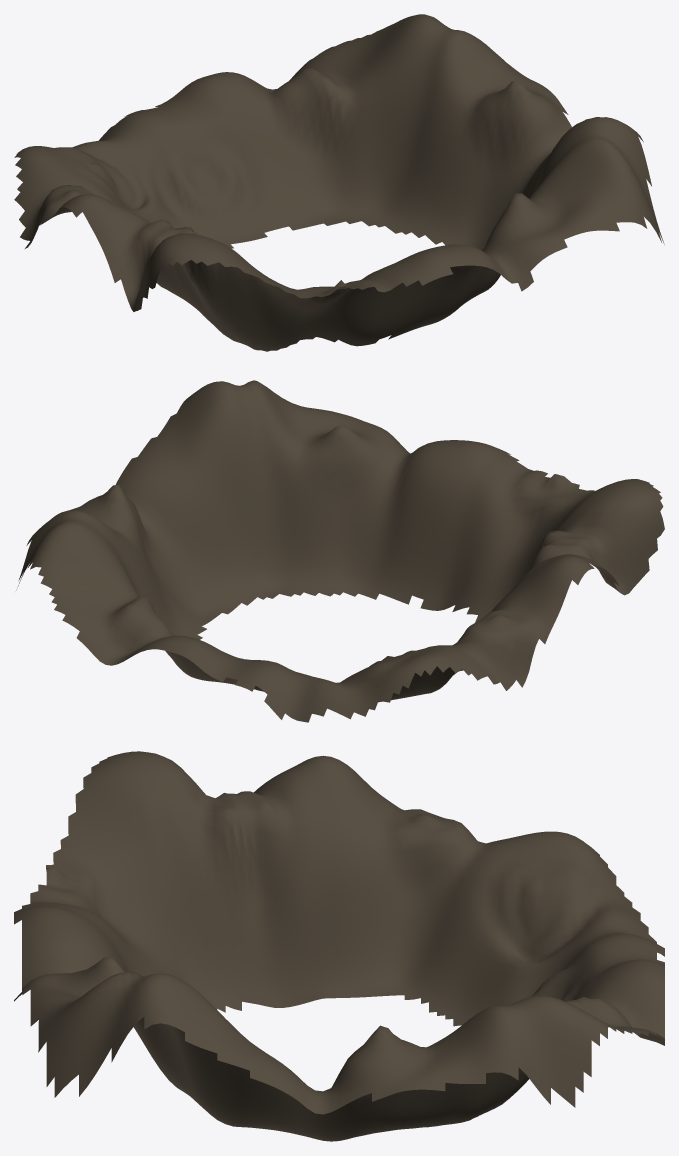
The model's file is cuvetteBrightMode.glb.
3 views of the same model, one above another, from view 1: azimuth 30°, elevation 25°; view 2: azimuth 150°, elevation 25°; view 3: azimuth 270°, elevation 25° (orthographic). The views are drawn at different scales.
Parts seen in each view (by area): view 1: Plane; view 2: Plane; view 3: Plane.
Boxes of the visible parts, x1,y1,x2,y2 form: Plane: (14, 14, 664, 351); Plane: (16, 380, 664, 722); Plane: (14, 751, 664, 1141).
Size of the model in its own units: 173 by 58.21 by 165.
